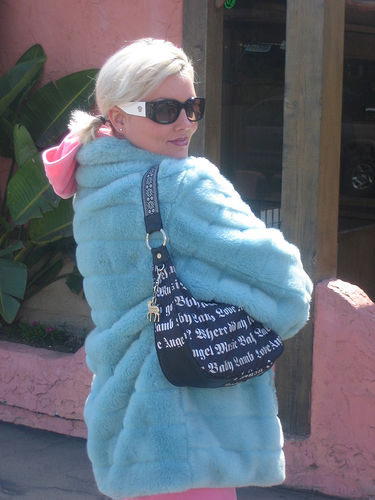without_mask: (109, 65, 204, 161)
